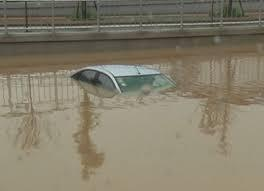water: (0, 71, 262, 190), (0, 34, 263, 72), (153, 36, 263, 103)
